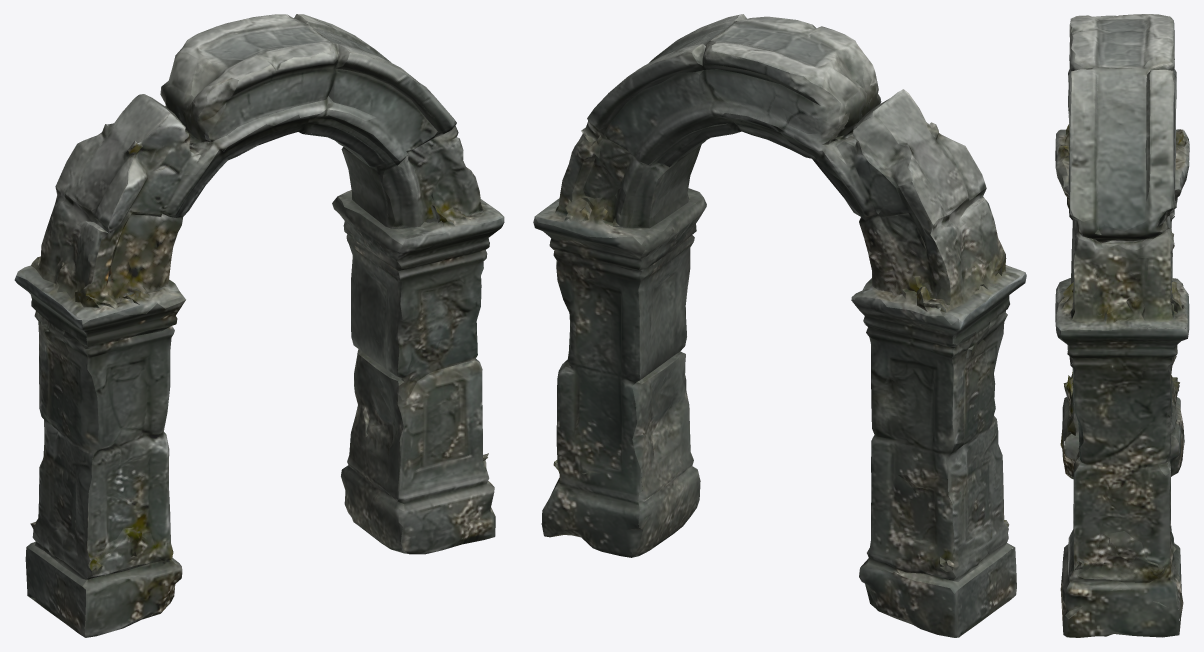
Rendered from arch.glb.
The picture shows the model from 3 angles, left to right: view 1: azimuth 30°, elevation 25°; view 2: azimuth 150°, elevation 25°; view 3: azimuth 270°, elevation 25°; orthographic projection. The views are drawn at different scales.
Visible parts, largest first — view 1: Abyss arch | Lux3D; view 2: Abyss arch | Lux3D; view 3: Abyss arch | Lux3D.
Boxes of the visible parts, x1,y1,x2,y2 form: Abyss arch | Lux3D: [14, 14, 504, 637]; Abyss arch | Lux3D: [533, 14, 1026, 637]; Abyss arch | Lux3D: [1055, 14, 1189, 637].
Size of the model in its own units: 0.8432 by 1 by 0.2392.
1 material, 1 textured.
